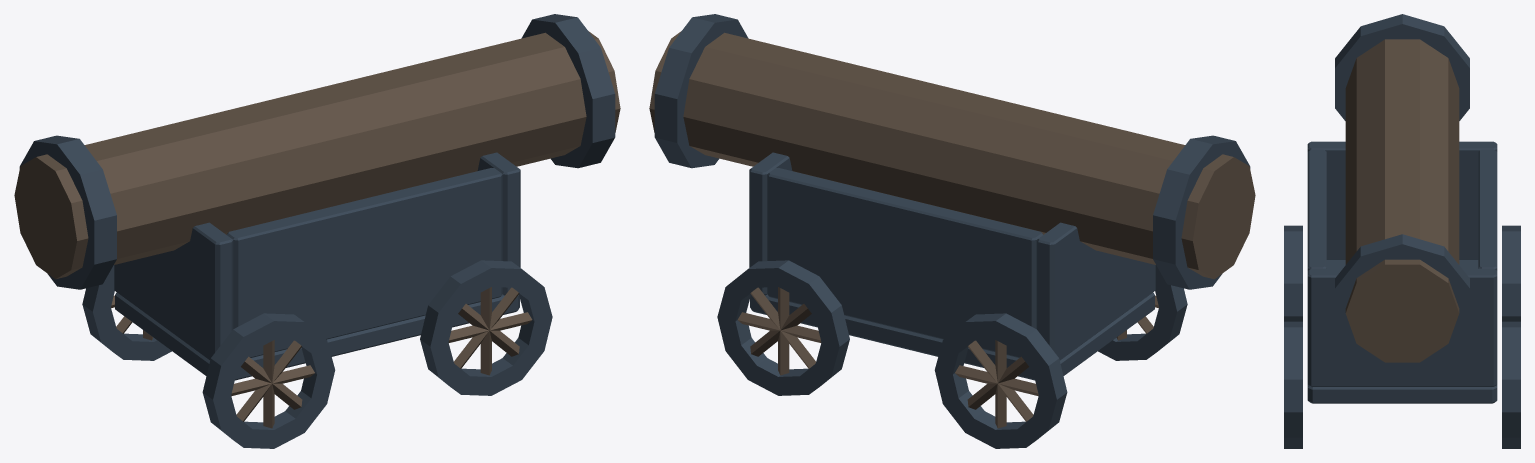
Rendered from battering-ram.glb.
3 renders of one model, left to right at view 1: azimuth 30°, elevation 25°; view 2: azimuth 150°, elevation 25°; view 3: azimuth 270°, elevation 25°, orthographic. The views are drawn at different scales.
Visible parts, largest first — view 1: battering-ram__body; view 2: battering-ram__body; view 3: battering-ram__body.
Boxes of the visible parts, left/top/right/bottom form: battering-ram__body: left=14, top=14, right=620, bottom=448; battering-ram__body: left=649, top=14, right=1255, bottom=448; battering-ram__body: left=1284, top=14, right=1520, bottom=448.
Size of the model in its own units: 2.4 by 1.24 by 1.
